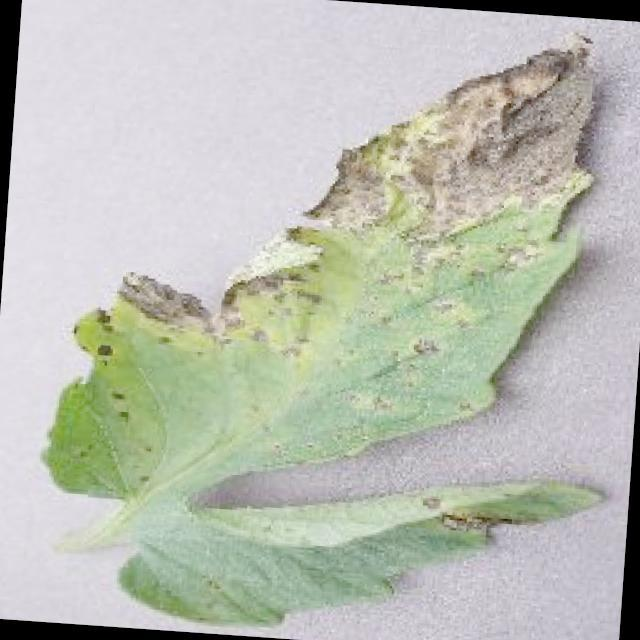Tomato Septoria spot leaf: (29, 0, 637, 640)
